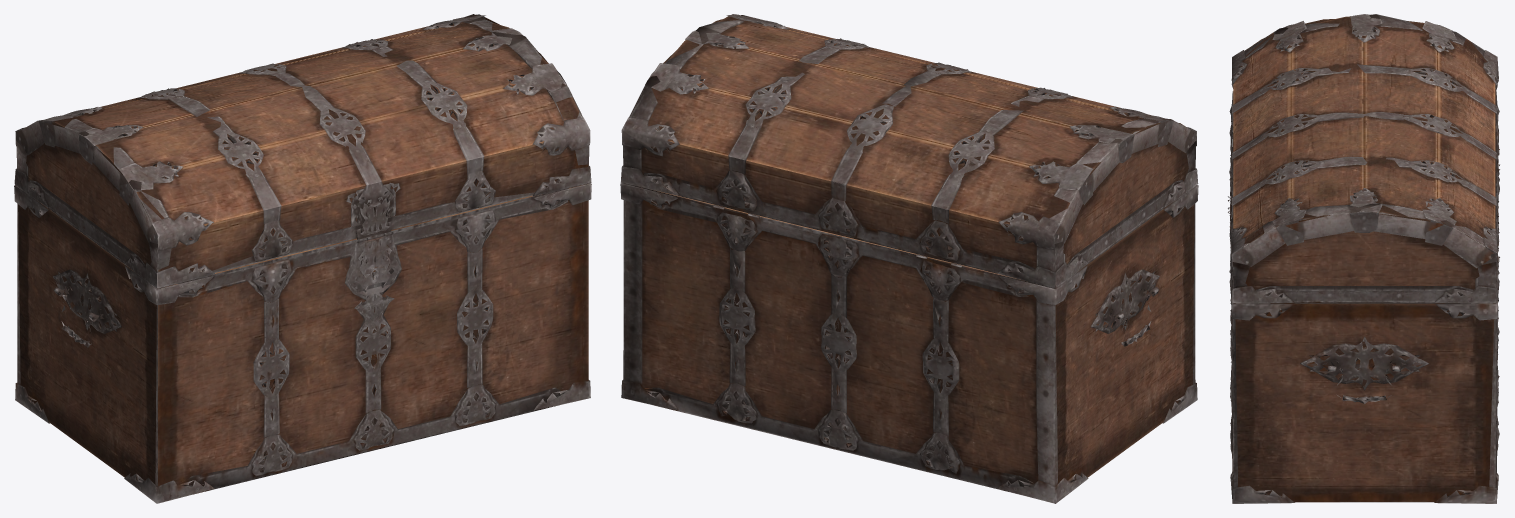
The model's file is treasurechest.glb.
The picture shows the model from 3 angles, left to right: view 1: azimuth 30°, elevation 25°; view 2: azimuth 150°, elevation 25°; view 3: azimuth 270°, elevation 25°; orthographic projection. The views are drawn at different scales.
Visible parts, largest first — view 1: treasure_chest_bottom; view 2: treasure_chest_bottom; view 3: treasure_chest_bottom.
Boxes of the visible parts, x1=… form: treasure_chest_bottom: x1=14, y1=14, x2=591, y2=503; treasure_chest_bottom: x1=620, y1=14, x2=1198, y2=503; treasure_chest_bottom: x1=1228, y1=14, x2=1499, y2=503.
Size of the model in its own units: 0.9485 by 0.6197 by 0.5226.
1 material, 1 textured.
